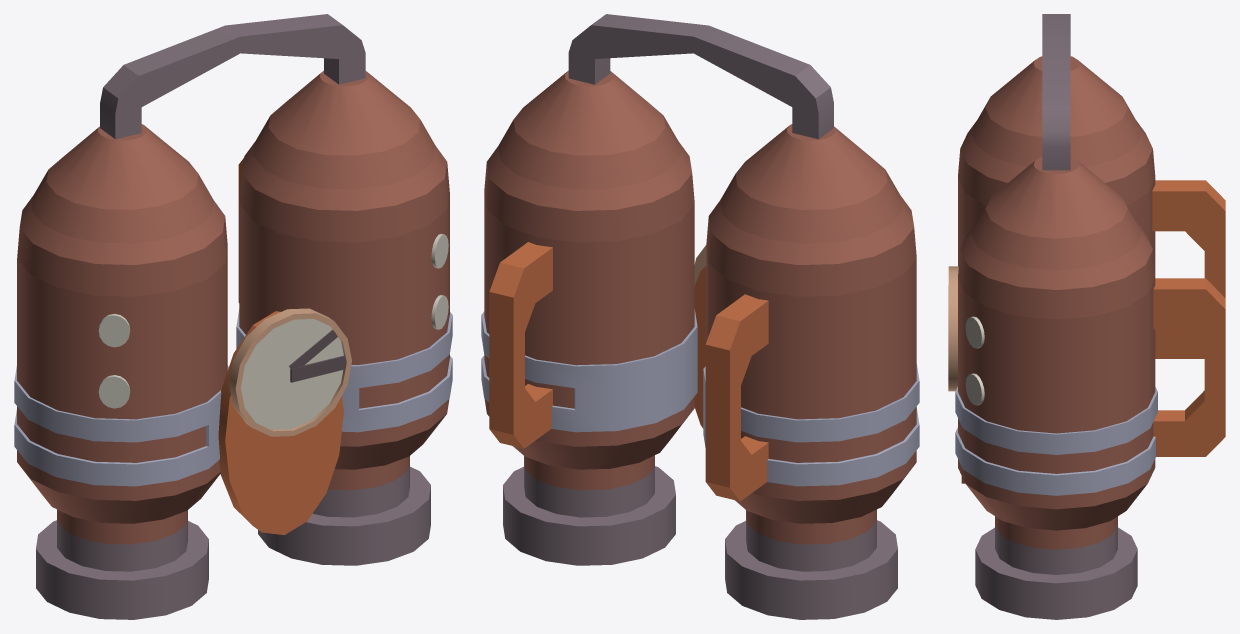
File: RustyJetpack.fbx
The picture shows the model from 3 angles, left to right: view 1: azimuth 30°, elevation 25°; view 2: azimuth 150°, elevation 25°; view 3: azimuth 270°, elevation 25°; orthographic projection. The views are drawn at different scales.
Parts seen in each view (by area): view 1: Cylinder; view 2: Cylinder; view 3: Cylinder.
Part boxes in pixels (box(x1,y1,x2,y2)): Cylinder: box(14, 14, 452, 619); Cylinder: box(481, 14, 919, 619); Cylinder: box(948, 14, 1225, 619).
Size of the model in its own units: 98.12 by 120 by 61.68.
